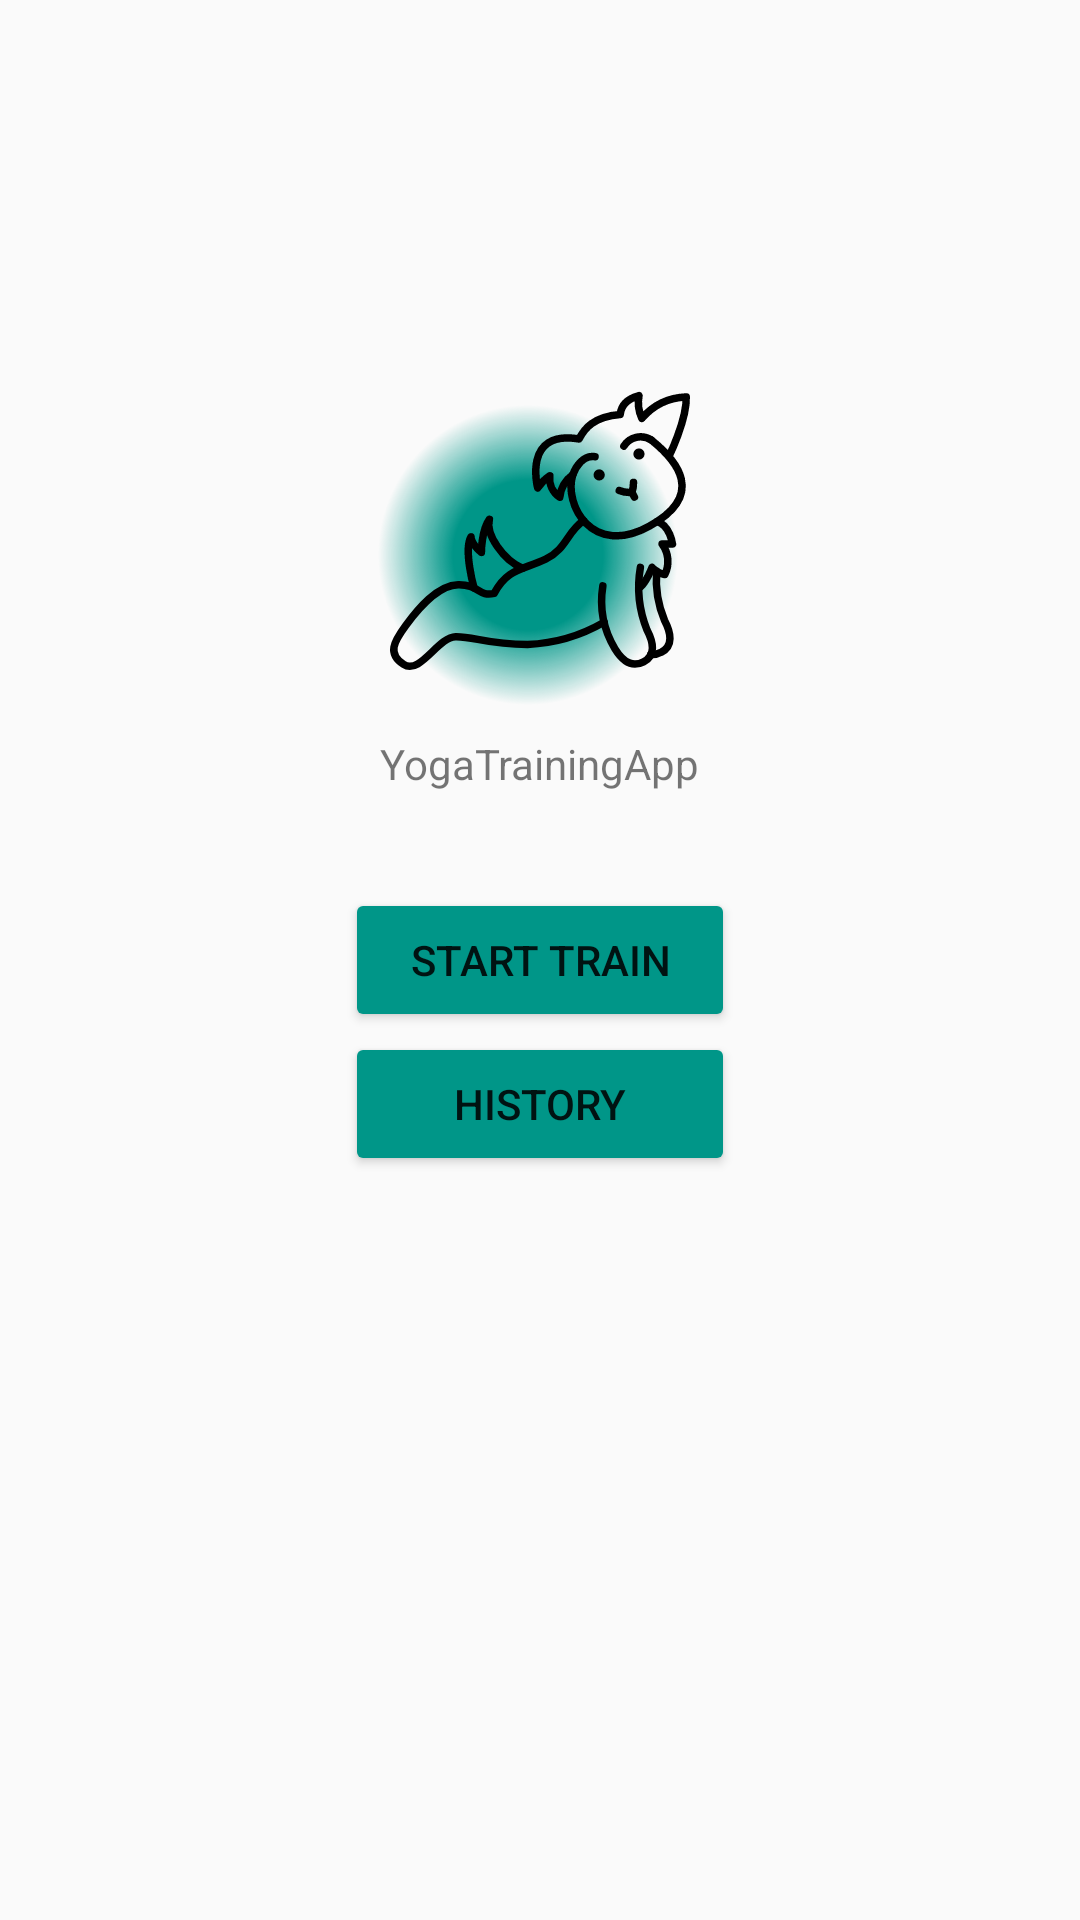

Point at icon controls on the screen. Image size 1080 x 1920, points as (x=x, y=y).
yoga first: (x=537, y=544)
